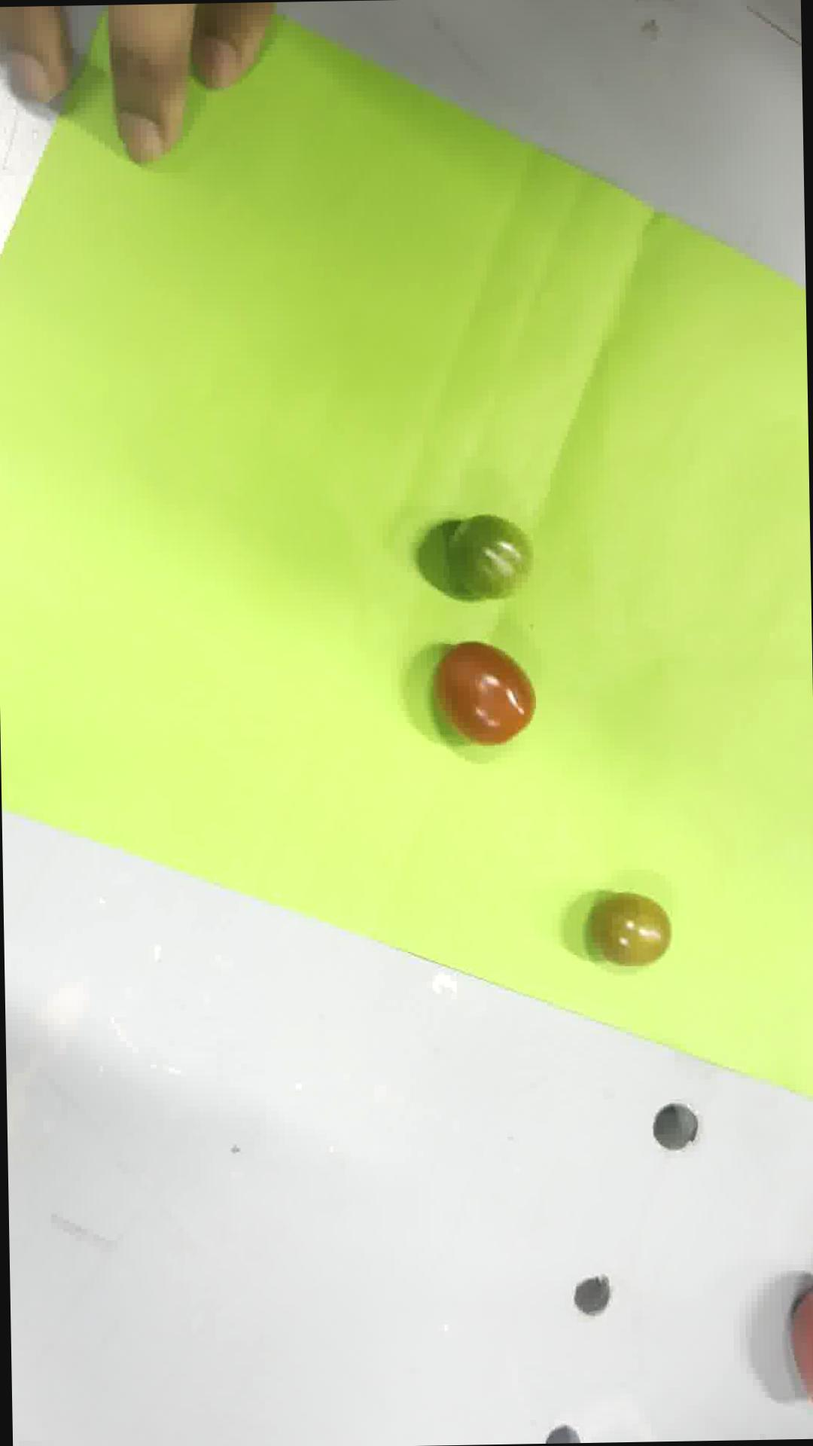green_cherry_tomato: (447, 514, 532, 598)
red_cherry_tomato: (433, 641, 535, 746)
yellow_cherry_tomato: (591, 892, 669, 965)
